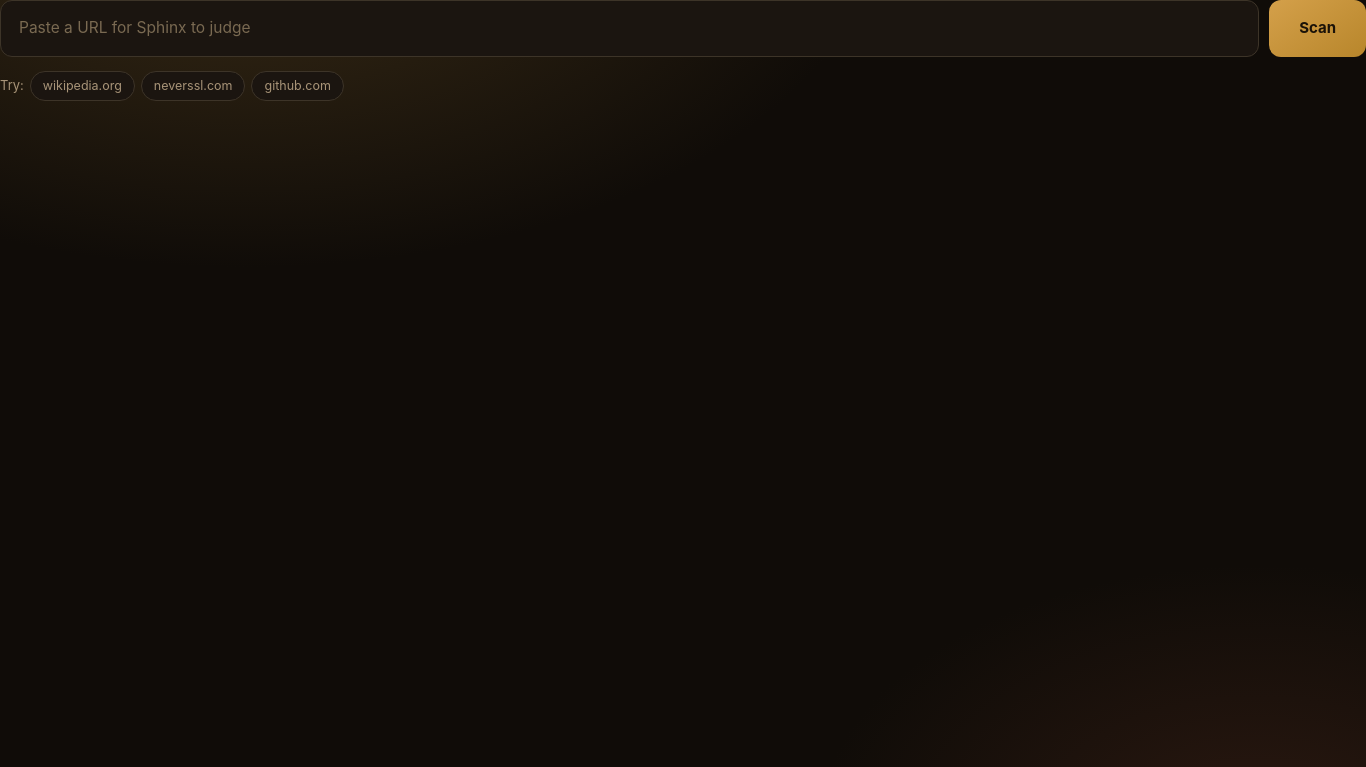
Test: Scanner › labels an offline scan instead of printing the raw verdict
Type "https://example.com" into the field named "URL to scan".
click(630, 28); type("https://example.com")  # box [0,0,1259,57]
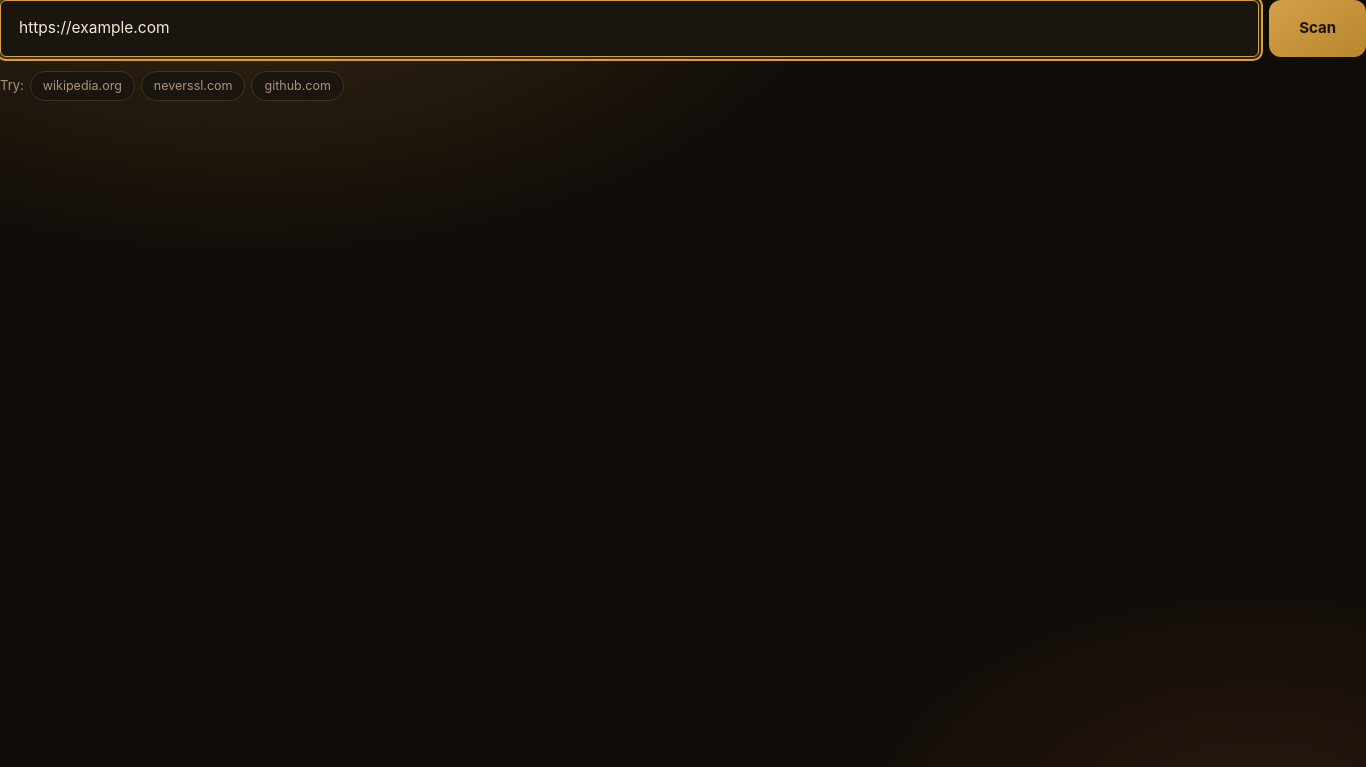
Click the button "Scan".
click(1318, 28)  # box [1269,0,1365,57]
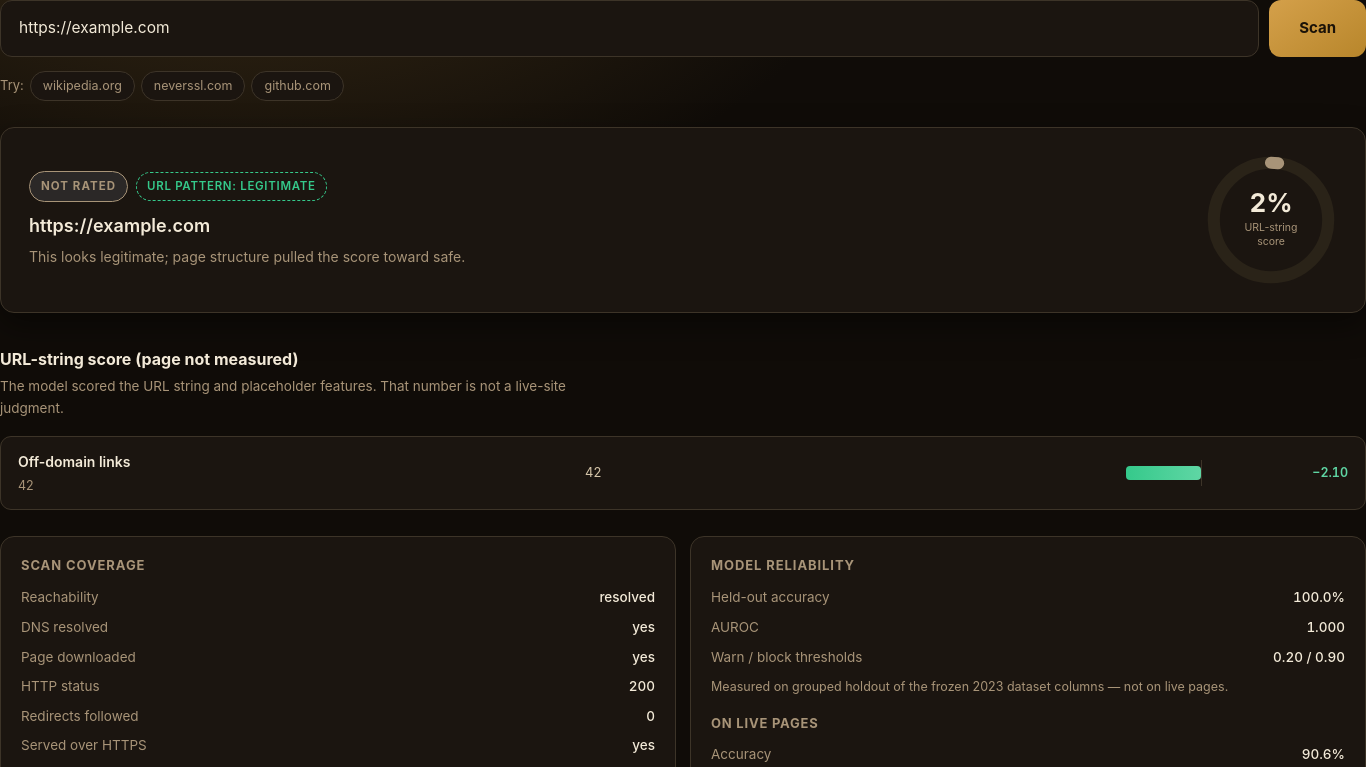
Expected: the text "not rated" is shown, [29,171,128,202]
